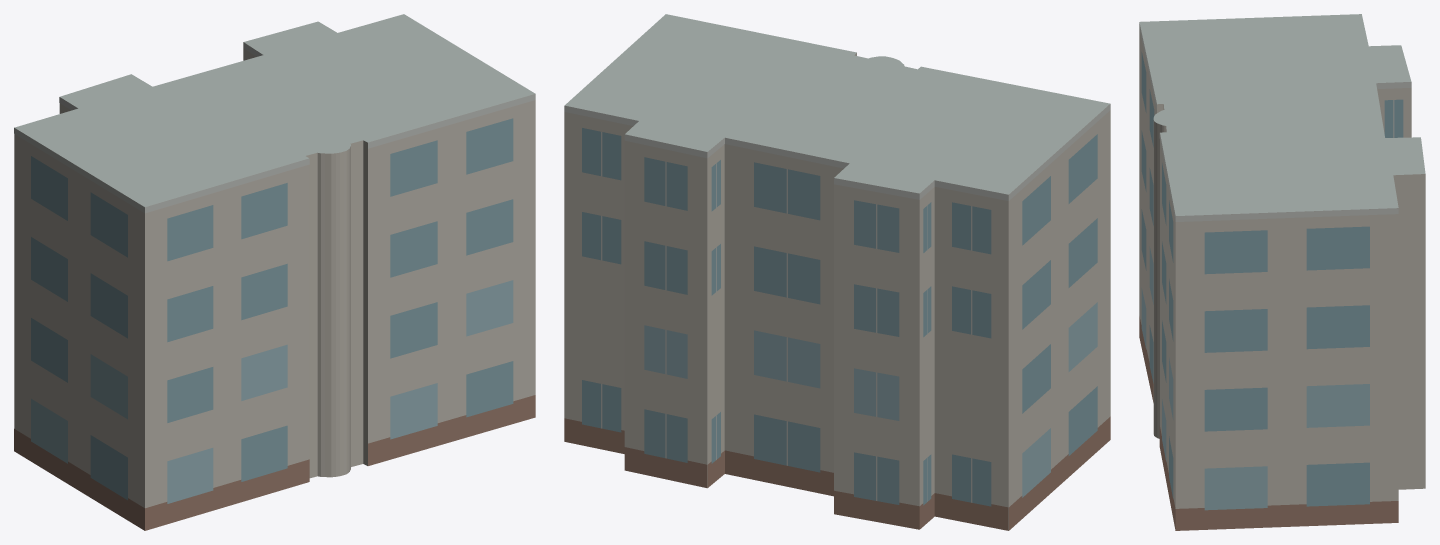
File: survey-upis-32758361.glb
3 renders of one model, left to right at view 1: azimuth 30°, elevation 25°; view 2: azimuth 150°, elevation 25°; view 3: azimuth 270°, elevation 25°, orthographic. The views are drawn at different scales.
Visible parts, largest first — view 1: survey-upis-32758361.tmp; view 2: survey-upis-32758361.tmp; view 3: survey-upis-32758361.tmp.
Part boxes in pixels (x1,y1,x2,y2): survey-upis-32758361.tmp: (14, 14, 535, 530); survey-upis-32758361.tmp: (564, 14, 1110, 530); survey-upis-32758361.tmp: (1139, 14, 1425, 530).
Bounding box in the file's own units: 17.64 × 12.8 × 10.56.
